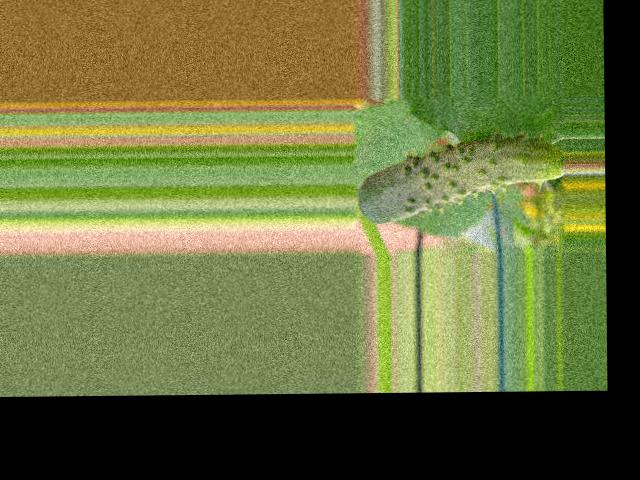cucumber: (355, 133, 563, 223)
